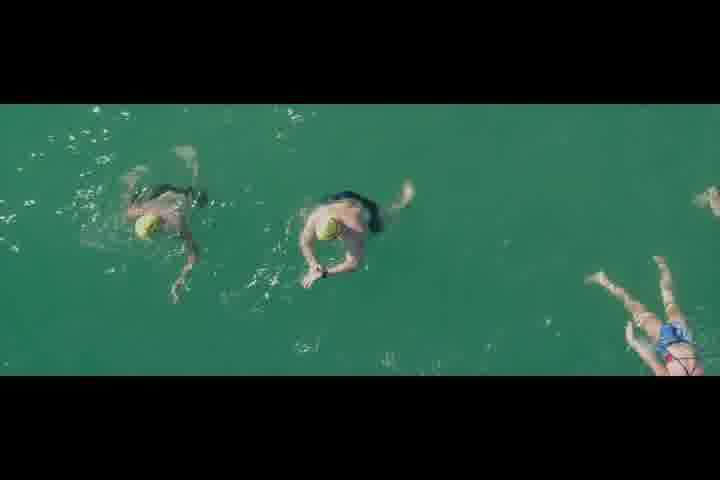swimmer: (295, 168, 417, 303), (585, 254, 715, 376), (118, 144, 204, 304)
